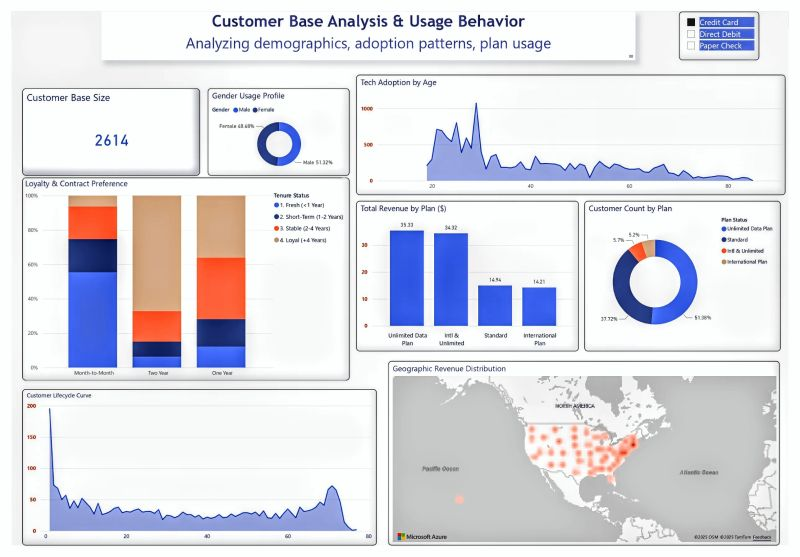

This screenshot's page, from the dashboard's own definition file:
{"tool":"powerbi","page":{"name":"Page 1","canvas":[1600,1100],"ordinal":0},"visuals":[{"type":"donutChart","title":"Gender Usage Profile","fields":{"Category":["Databel - Data.Gender"],"Y":["Databel - Data.No of Custs"]},"box":[404,158,292,180],"z":0},{"type":"azureMap","title":"Geographic Revenue Distribution","fields":{"Category":["Databel - Data.State"]},"box":[776,720,806,380],"z":1000},{"type":"donutChart","title":"Customer Count by Plan","fields":{"Category":["Databel - Data.Plan Status"],"Y":["Databel - Data.Number of Custumers"]},"box":[1180,390,404,310],"z":2000},{"type":"clusteredColumnChart","title":"Total Revenue by Plan ($)","fields":{"Category":["Databel - Data.Plan Status"],"Y":["Avg(Databel - Data.Monthly Charge)"]},"box":[710,390,458,310],"z":3000},{"type":"lineChart","title":"Tech Adoption by Age","fields":{"Category":["Databel - Data.Age"],"Y":["Sum(Databel - Data.Avg Monthly GB Download)"]},"box":[710,130,884,248],"z":4000},{"type":"areaChart","title":"Customer Lifecycle Curve","fields":{"Category":["Databel - Data.Account Length (in months)"],"Y":["Databel - Data.Number of Custumers"]},"box":[22,778,730,322],"z":5000},{"type":"card","title":"Customer Base Size","fields":{"Values":["Databel - Data.Number of Custumers"]},"box":[22,158,366,180],"z":6000},{"type":"hundredPercentStackedColumnChart","title":"Loyalty & Contract Preference","fields":{"Category":["Databel - Data.Contract Type"],"Y":["Databel - Data.Number of Custumers"],"Series":["Databel - Data.Tenure Status"]},"box":[22,342,674,418],"z":7000},{"type":"textbox","title":"Customer Base Analysis & Usage Behavior","box":[185,0,1100,100],"z":8000},{"type":"slicer","fields":{"Values":["Databel - Data.Payment Method"]},"box":[1375,0,165,100],"z":9000}]}

Visuals, with their boxes in screenshot pixels (x1, y1, x2, y2), scaled from the page's 1600x1100 canvas onto the 800x557 screenshot:
"Gender Usage Profile" donutChart: [202,80,348,171]
"Geographic Revenue Distribution" azureMap: [388,365,791,556]
"Customer Count by Plan" donutChart: [590,197,792,354]
"Total Revenue by Plan ($)" clusteredColumnChart: [355,197,584,354]
"Tech Adoption by Age" lineChart: [355,66,797,191]
"Customer Lifecycle Curve" areaChart: [11,394,376,556]
"Customer Base Size" card: [11,80,194,171]
"Loyalty & Contract Preference" hundredPercentStackedColumnChart: [11,173,348,385]
"Customer Base Analysis & Usage Behavior" textbox: [92,0,642,51]
slicer - Databel - Data.Payment Method: [688,0,770,51]
